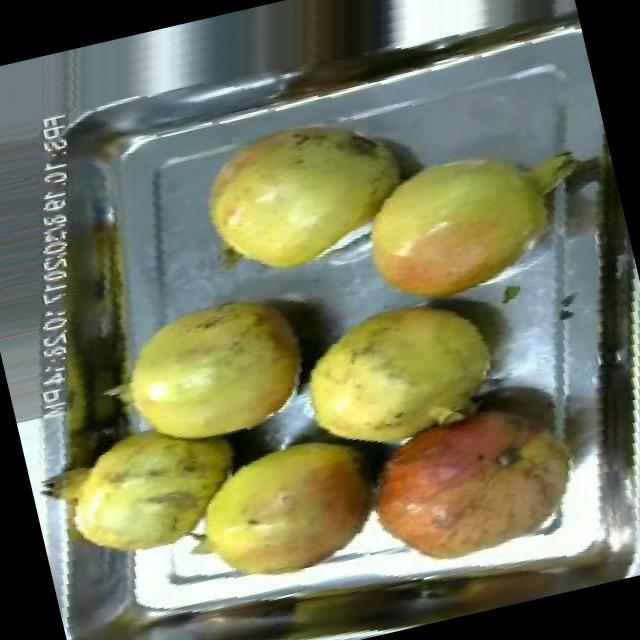fruit: (324, 108, 616, 348), (330, 366, 616, 592), (171, 88, 430, 306), (270, 273, 532, 477), (78, 272, 334, 478), (156, 408, 404, 612), (36, 400, 256, 590)
